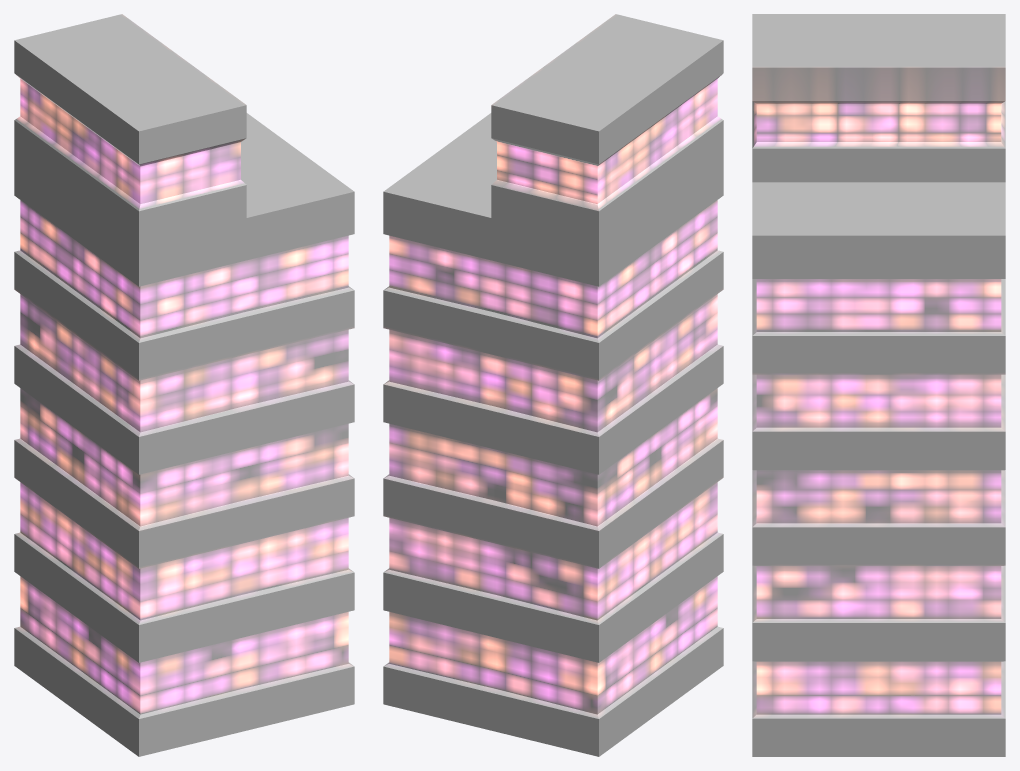
File: BuildingHalfRoof.fbx
3 renders of one model, left to right at view 1: azimuth 30°, elevation 25°; view 2: azimuth 150°, elevation 25°; view 3: azimuth 270°, elevation 25°, orthographic.
Visible parts, largest first — view 1: BuildingHalfRoof; view 2: BuildingHalfRoof; view 3: BuildingHalfRoof.
Part boxes in pixels (x1,y1,x2,y2): BuildingHalfRoof: (14,14,354,756); BuildingHalfRoof: (383,14,723,756); BuildingHalfRoof: (752,14,1005,756).
Size of the model in its own units: 200 by 554 by 200.
